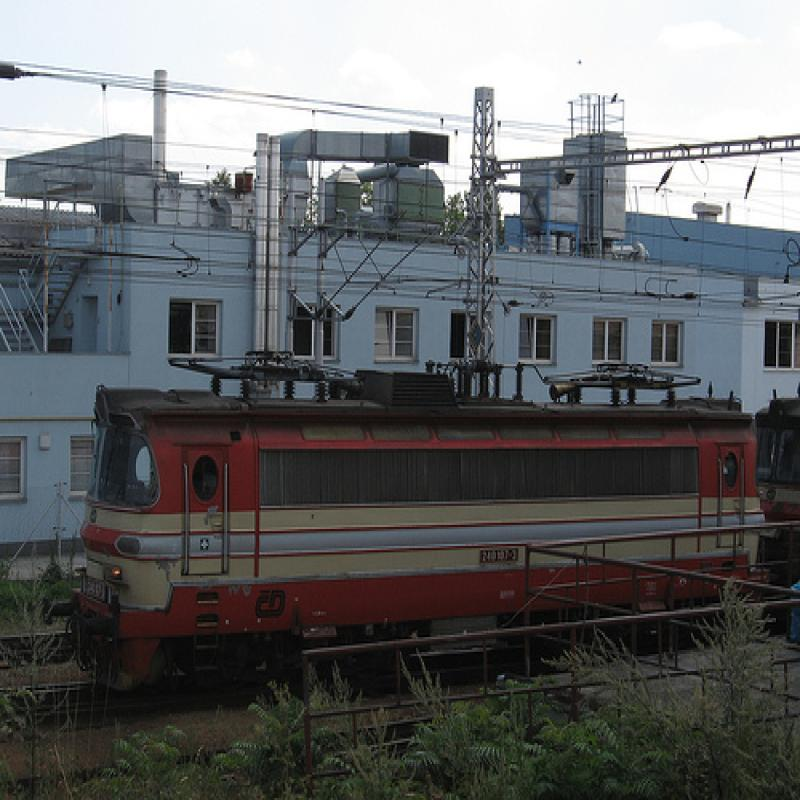train: (70, 348, 761, 678)
